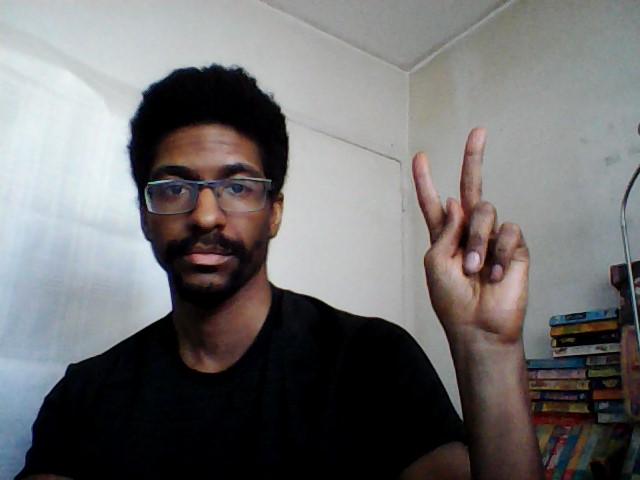k: (408, 122, 538, 344)
